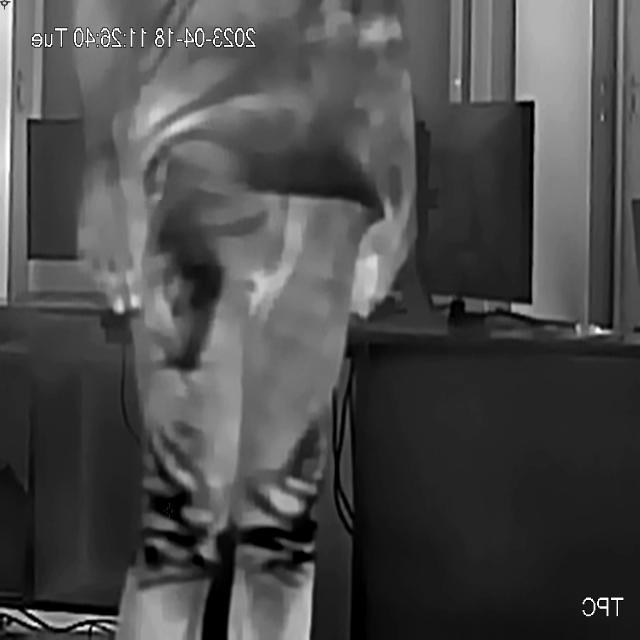Weapon: (138, 200, 232, 390)
